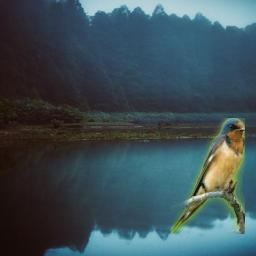Swallow: (171, 118, 245, 234)
